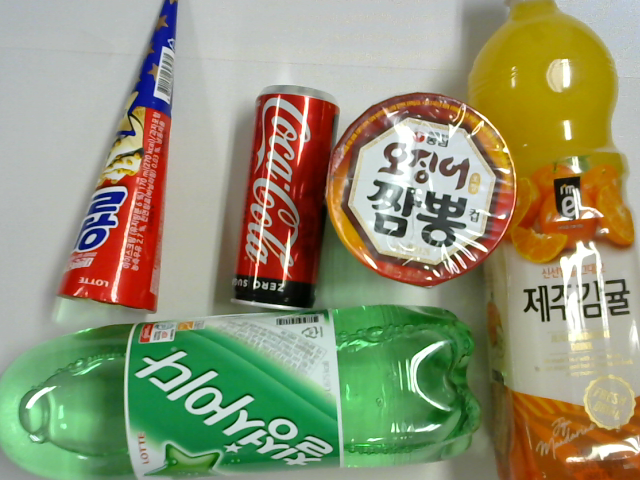Chilseong_Cider_1.5L: (1, 303, 483, 480)
Coca_Cola_Zero_Can_250ml: (231, 81, 333, 313)
Jeju_Tangerine_1.5L: (466, 1, 640, 480)
Ojjam: (328, 92, 518, 284)
World_Cone_Banila: (54, 1, 178, 314)
